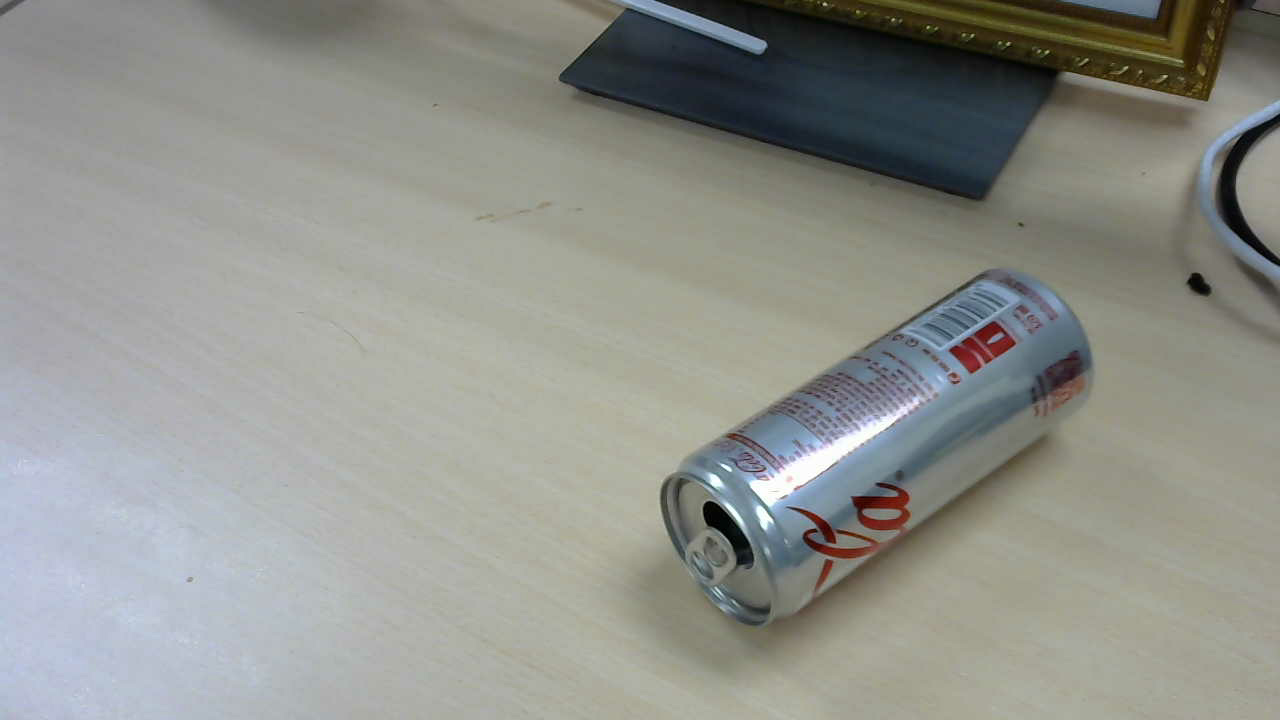Coca_Cola: (663, 270, 1105, 635)
